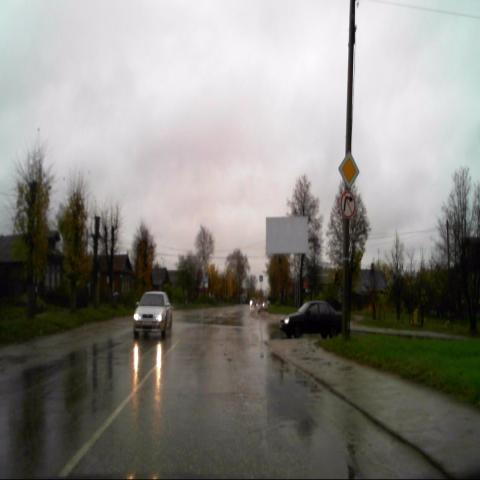3_18: (340, 190, 356, 218)
